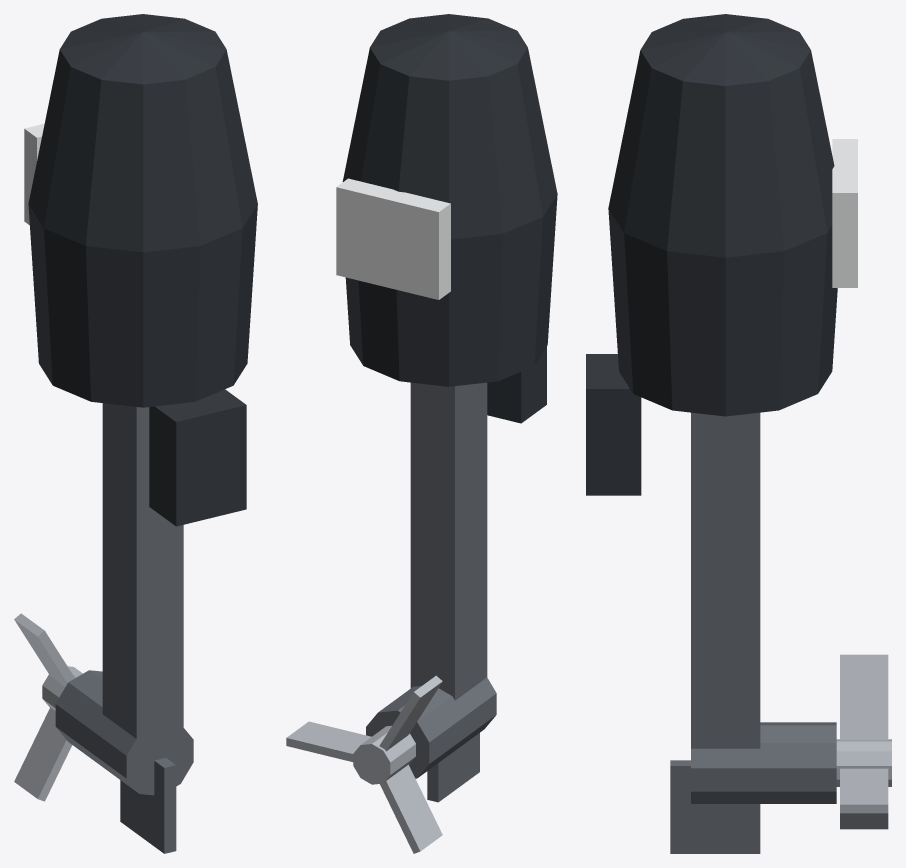
The model's file is outboard_60.glb.
3 renders of one model, left to right at view 1: azimuth 30°, elevation 25°; view 2: azimuth 150°, elevation 25°; view 3: azimuth 270°, elevation 25°, orthographic. The views are drawn at different scales.
Parts seen in each view (by area): view 1: model; view 2: model; view 3: model.
Part boxes in pixels (x1=…): model: x1=14, y1=14, x2=257, y2=853; model: x1=286, y1=14, x2=557, y2=853; model: x1=586, y1=14, x2=891, y2=853.
Bounding box in the file's own units: 0.3388 × 1.3 × 0.4416.
1 material, 1 textured.
